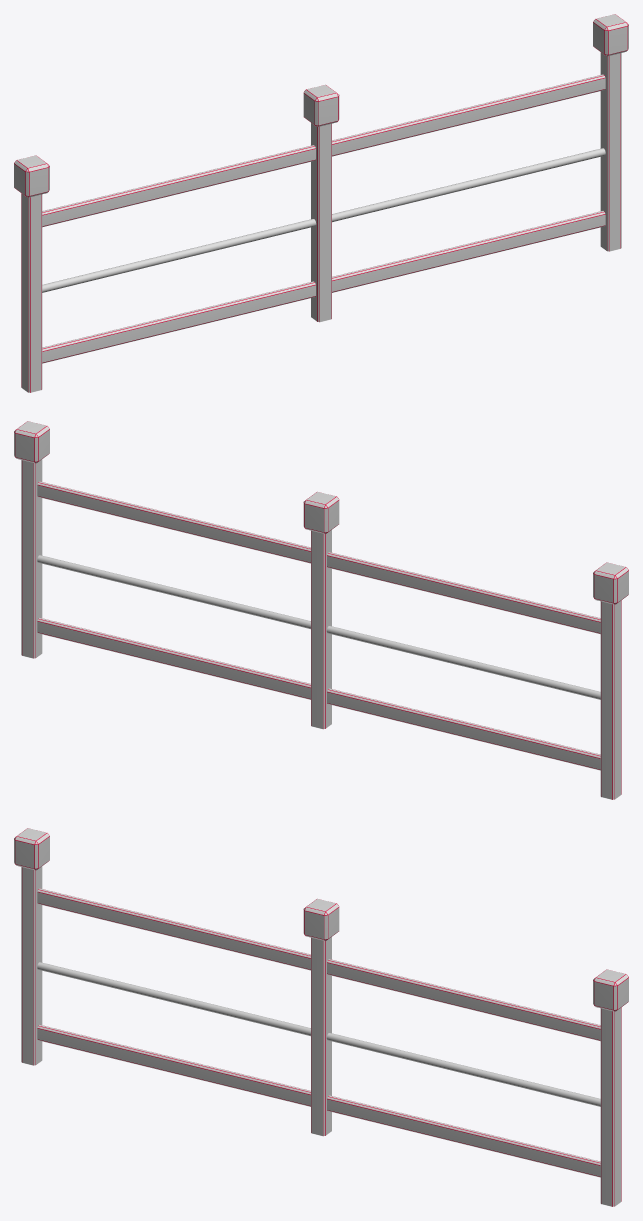
Rendered from SM_Fence.fbx.
The picture shows the model from 3 angles, top to bottom: view 1: azimuth 30°, elevation 25°; view 2: azimuth 150°, elevation 25°; view 3: azimuth 330°, elevation 25°; orthographic projection.
Visible parts, largest first — view 1: Fence_BaseMesh.001; view 2: Fence_BaseMesh.001; view 3: Fence_BaseMesh.001.
Boxes of the visible parts, x1,y1,x2,y2 form: Fence_BaseMesh.001: (14,14,628,392); Fence_BaseMesh.001: (14,421,628,799); Fence_BaseMesh.001: (14,828,628,1206).
Bounding box in the file's own units: 209 × 74.8 × 8.57.
